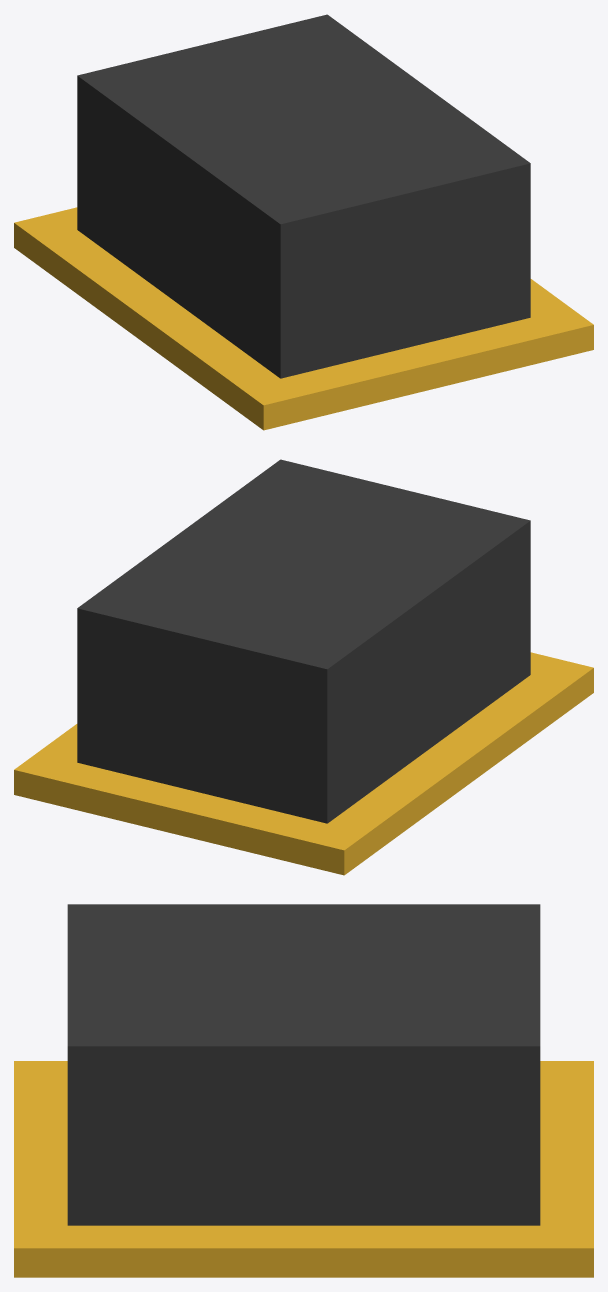
Rendered from Processor.fbx.
The picture shows the model from 3 angles, top to bottom: view 1: azimuth 30°, elevation 25°; view 2: azimuth 150°, elevation 25°; view 3: azimuth 270°, elevation 25°; orthographic projection. The views are drawn at different scales.
Parts seen in each view (by area): view 1: Processor; view 2: Processor; view 3: Processor.
Part boxes in pixels (bbox=[...]): Processor: bbox=[14, 14, 593, 430]; Processor: bbox=[14, 459, 593, 875]; Processor: bbox=[14, 904, 593, 1277].
Size of the model in its own units: 24.37 by 12.65 by 31.89.
